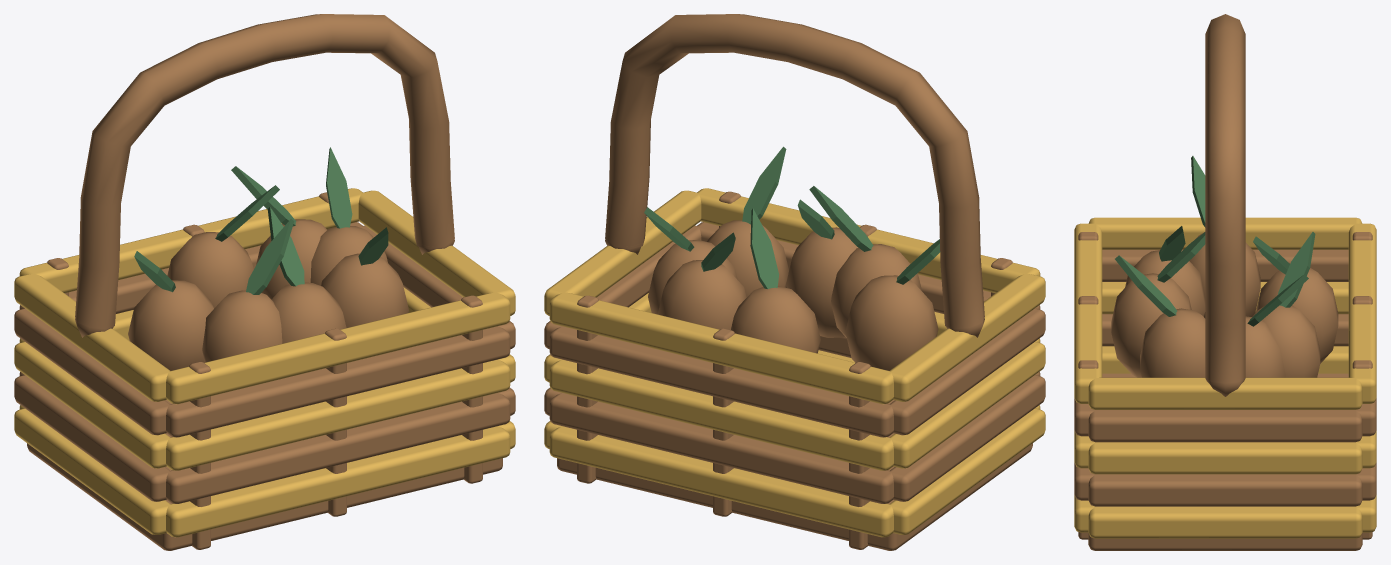
Rendered from almanac-gardens-bulb-basket-d6598f98__22068.glb.
The picture shows the model from 3 angles, left to right: view 1: azimuth 30°, elevation 25°; view 2: azimuth 150°, elevation 25°; view 3: azimuth 270°, elevation 25°; orthographic projection. The views are drawn at different scales.
Visible parts, largest first — view 1: bulb-basket-oak, bulb-basket-gold, bulb-basket-leaf; view 2: bulb-basket-oak, bulb-basket-gold, bulb-basket-leaf; view 3: bulb-basket-oak, bulb-basket-gold, bulb-basket-leaf.
Part boxes in pixels (x1,y1,x2,y2): bulb-basket-oak: (14, 14, 515, 550); bulb-basket-gold: (14, 188, 515, 537); bulb-basket-leaf: (134, 147, 388, 294); bulb-basket-oak: (544, 14, 1045, 550); bulb-basket-gold: (544, 188, 1045, 537); bulb-basket-leaf: (644, 146, 940, 288); bulb-basket-oak: (1074, 14, 1376, 550); bulb-basket-gold: (1074, 217, 1376, 538); bulb-basket-leaf: (1115, 156, 1315, 326).
Size of the model in its own units: 0.52 by 0.5777 by 0.375.
